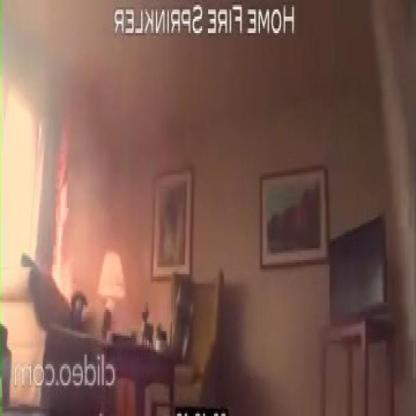Fire: (50, 95, 81, 302)
